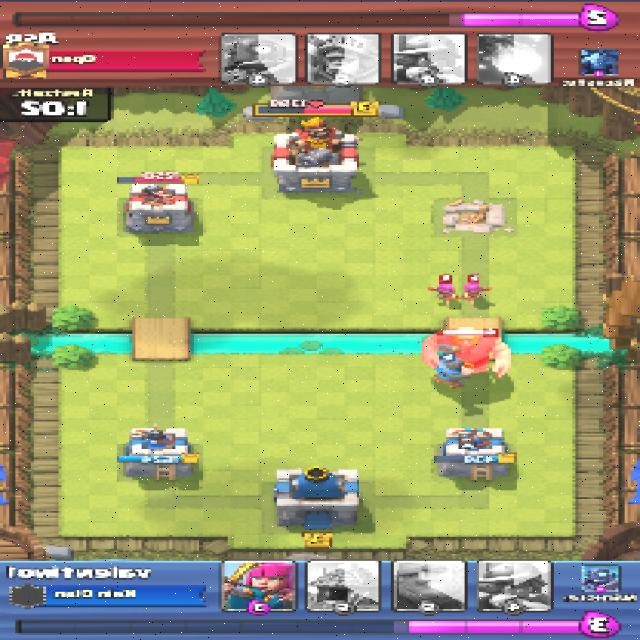Enemy-Archer: (434, 283, 460, 304), (462, 283, 488, 302)
Enemy-Giant: (424, 326, 511, 378)
Player-Knight: (430, 357, 470, 390)
